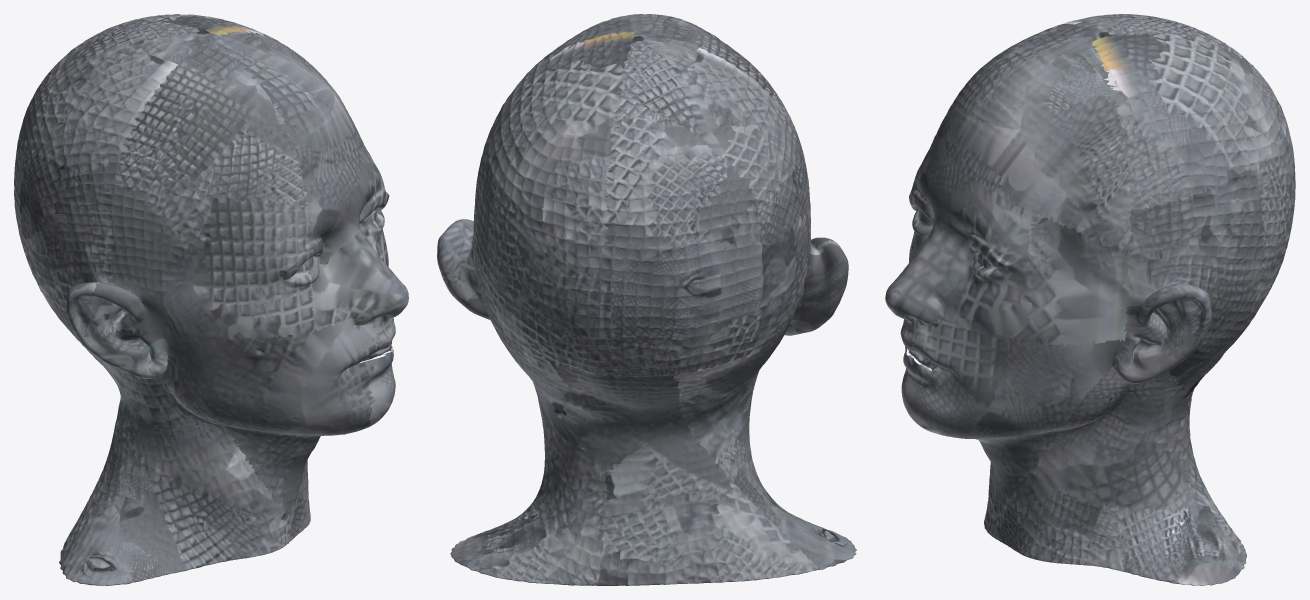
File: head-mouth.glb
3 renders of one model, left to right at view 1: azimuth 30°, elevation 25°; view 2: azimuth 150°, elevation 25°; view 3: azimuth 270°, elevation 25°, orthographic. The views are drawn at different scales.
Parts seen in each view (by area): view 1: Head_mouth_morphs; view 2: Head_mouth_morphs; view 3: Head_mouth_morphs.
Part boxes in pixels (x1,y1,x2,y2): Head_mouth_morphs: (14, 14, 408, 585); Head_mouth_morphs: (437, 14, 856, 585); Head_mouth_morphs: (885, 14, 1295, 585).
Size of the model in its own units: 0.6805 by 1 by 0.7599.
1 material, 1 textured.
